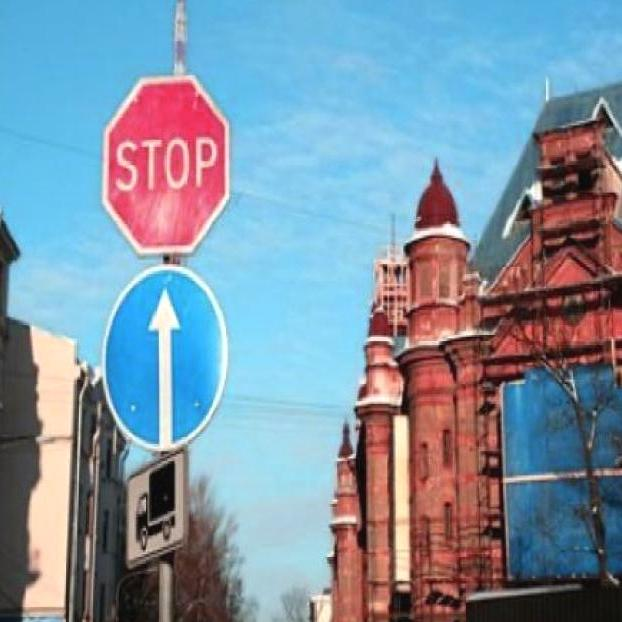stop_sign: (100, 73, 230, 250)
